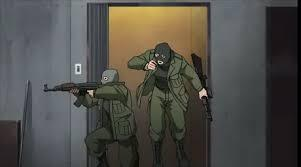rifle: (41, 79, 102, 109), (191, 52, 215, 123)
